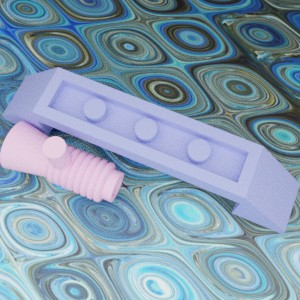lego: (2, 67, 299, 233), (0, 120, 123, 202)
